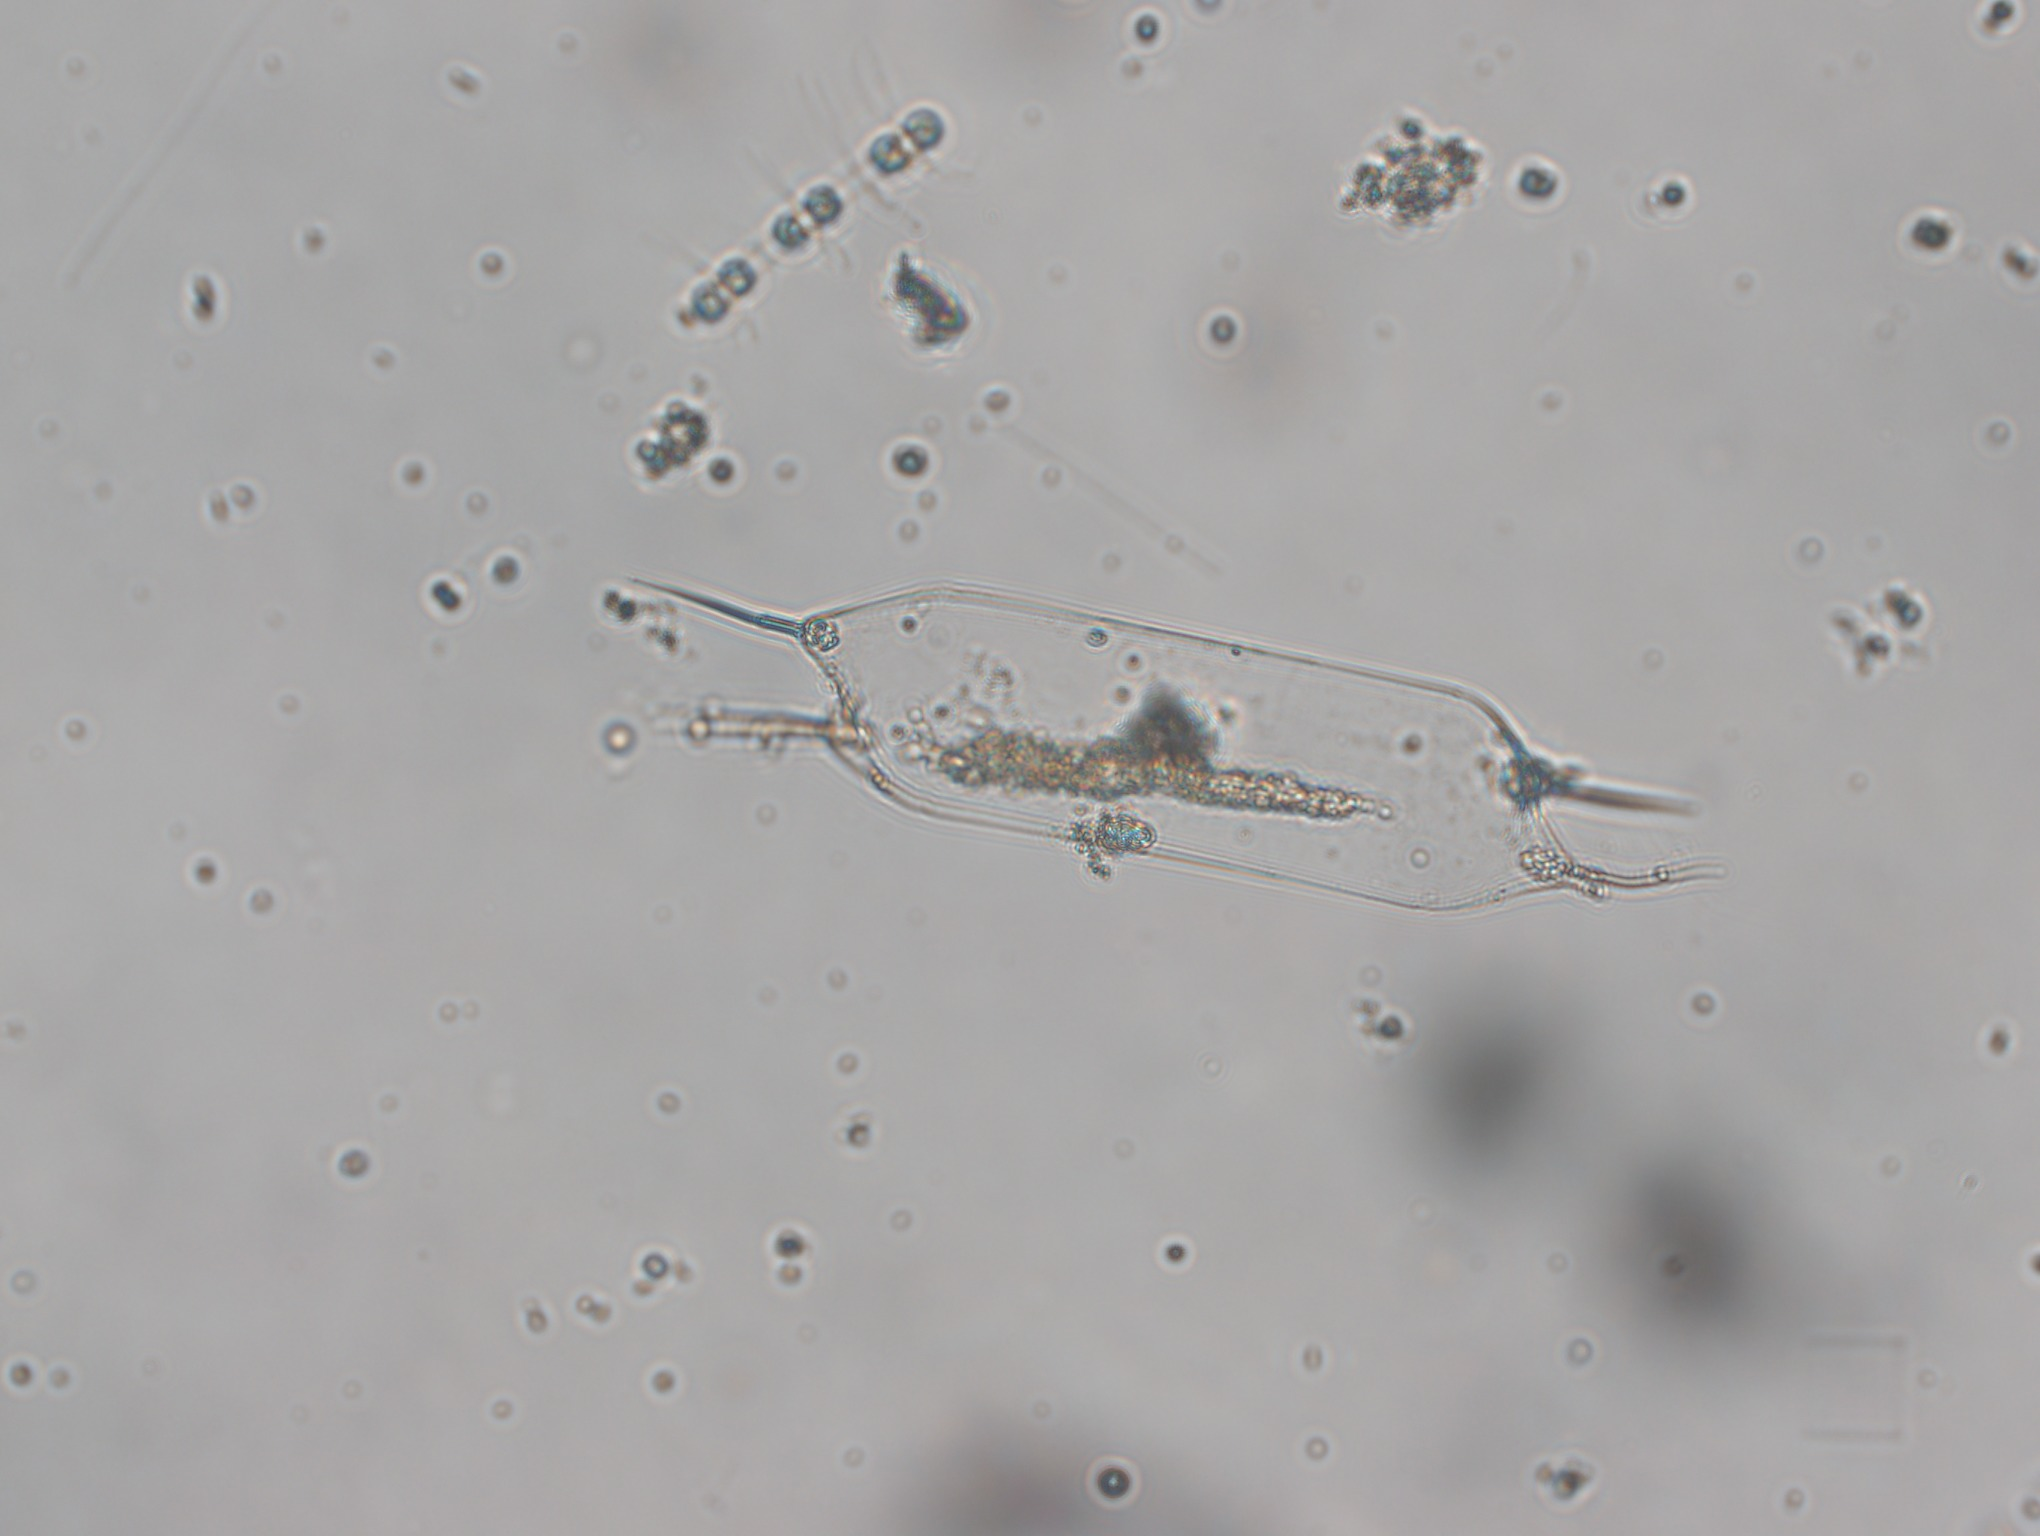biddulphia: (619, 568, 1729, 916)
chaetoceros: (648, 61, 977, 345)
